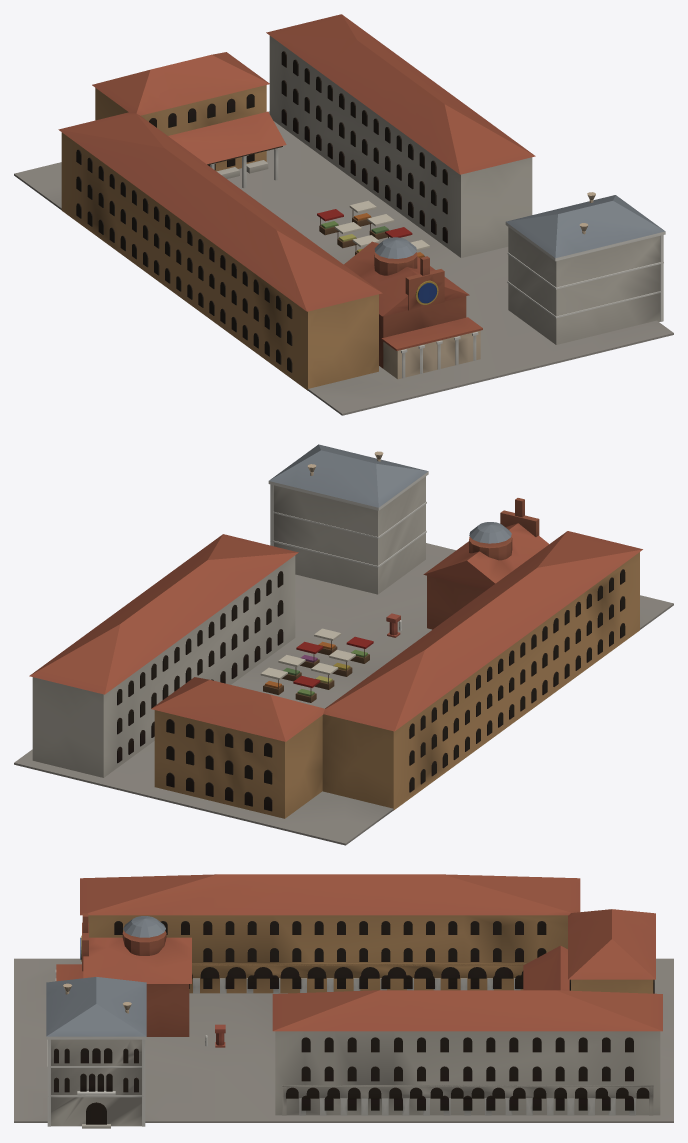
File: rialto-market.glb
The picture shows the model from 3 angles, top to bottom: view 1: azimuth 30°, elevation 25°; view 2: azimuth 150°, elevation 25°; view 3: azimuth 270°, elevation 25°; orthographic projection.
Visible parts, largest first — view 1: p1_buildings, p0_ground, p2_stalls; view 2: p1_buildings, p0_ground, p2_stalls; view 3: p1_buildings, p0_ground.
Boxes of the visible parts, x1,y1,x2,y2 form: p1_buildings: [58, 14, 665, 390]; p0_ground: [14, 111, 673, 415]; p2_stalls: [317, 200, 429, 258]; p1_buildings: [29, 444, 642, 818]; p0_ground: [14, 543, 673, 845]; p2_stalls: [260, 628, 373, 702]; p1_buildings: [46, 874, 662, 1128]; p0_ground: [14, 958, 673, 1122].
Bounding box in the file's own units: 58.2 × 17.64 × 96.
